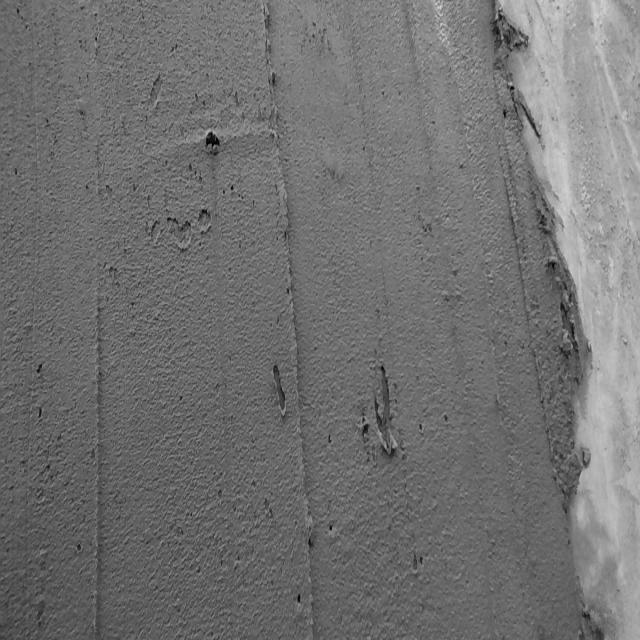trowels marks: (260, 7, 322, 640), (84, 273, 105, 640)
